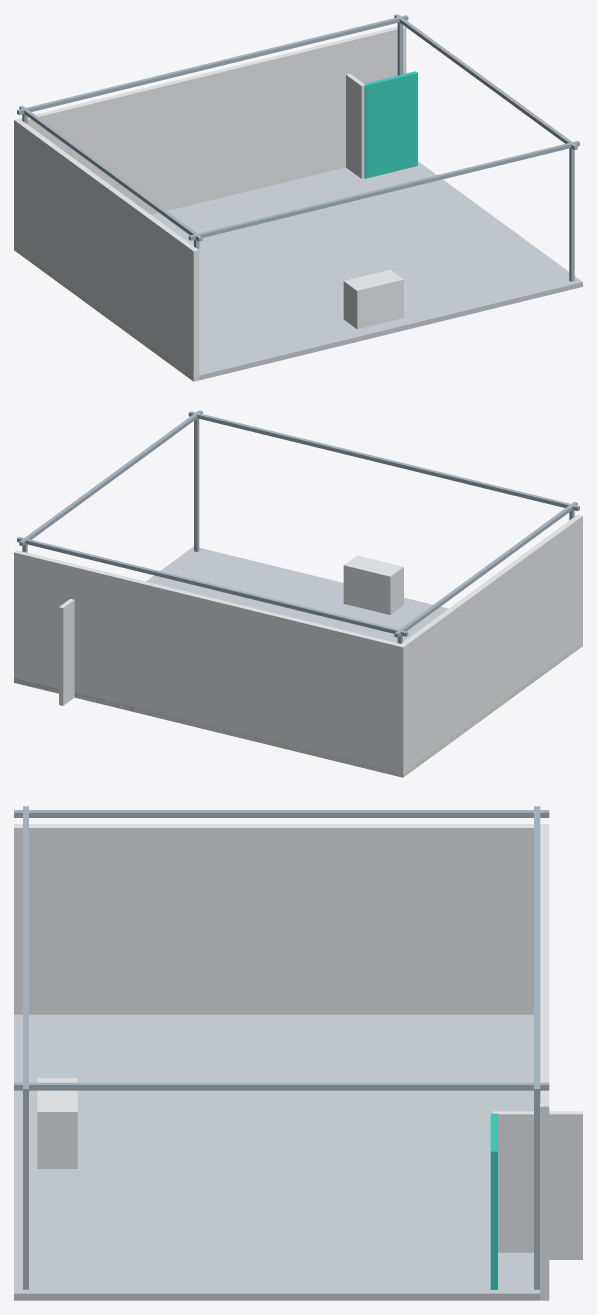
The picture shows the model from 3 angles, top to bottom: view 1: azimuth 30°, elevation 25°; view 2: azimuth 150°, elevation 25°; view 3: azimuth 270°, elevation 25°; orthographic projection. The views are drawn at different scales.
Parts seen in each view (by area): view 1: Exhibition Booth Concept; view 2: Exhibition Booth Concept; view 3: Exhibition Booth Concept.
Part boxes in pixels (box(x1,y1,x2,y2)): Exhibition Booth Concept: box(14, 14, 582, 381); Exhibition Booth Concept: box(14, 410, 582, 777); Exhibition Booth Concept: box(14, 806, 582, 1300).
Size of the model in its own units: 10 by 3.49 by 8.51.
